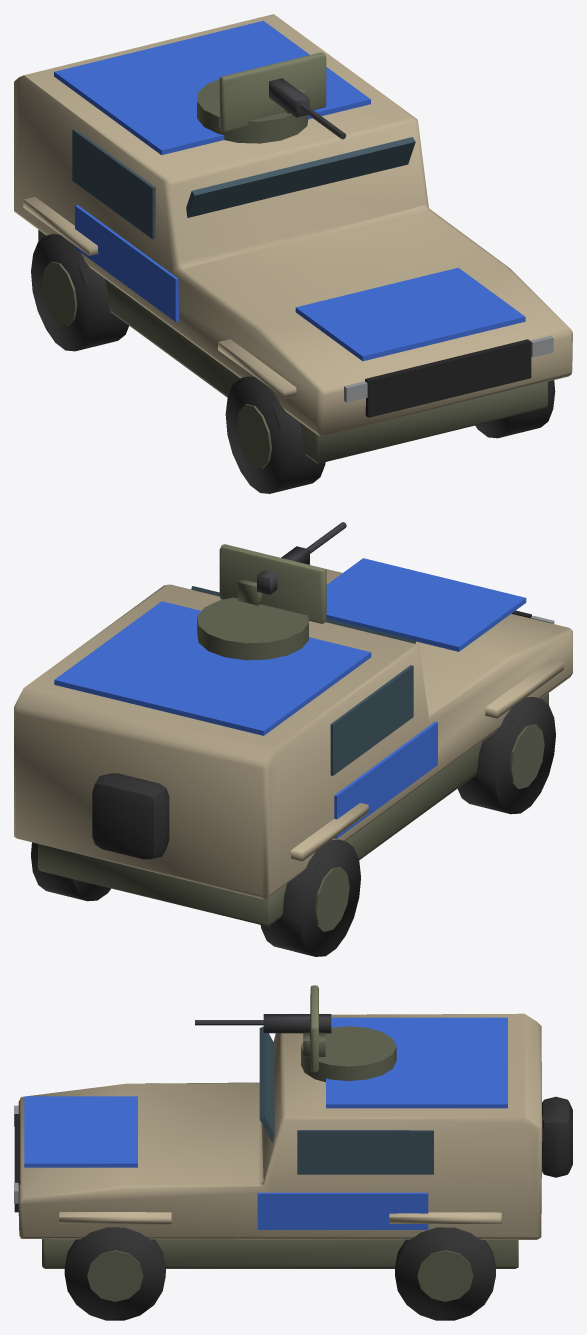
Rendered from recon_lod1.glb.
3 views of the same model, one above another, from view 1: azimuth 30°, elevation 25°; view 2: azimuth 150°, elevation 25°; view 3: azimuth 270°, elevation 25° (orthographic). The views are drawn at different scales.
Visible parts, largest first — view 1: hull, turret; view 2: hull, turret; view 3: hull, turret.
Boxes of the visible parts, <box> form: hull: <box>14,14,572,493</box>; turret: <box>197,52,346,143</box>; hull: <box>14,558,572,956</box>; turret: <box>197,522,346,660</box>; hull: <box>14,1013,572,1320</box>; turret: <box>195,985,396,1082</box>.
Size of the model in its own units: 2.4 by 2.52 by 4.91.
